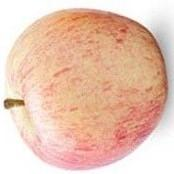fruit: (5, 6, 167, 169)
